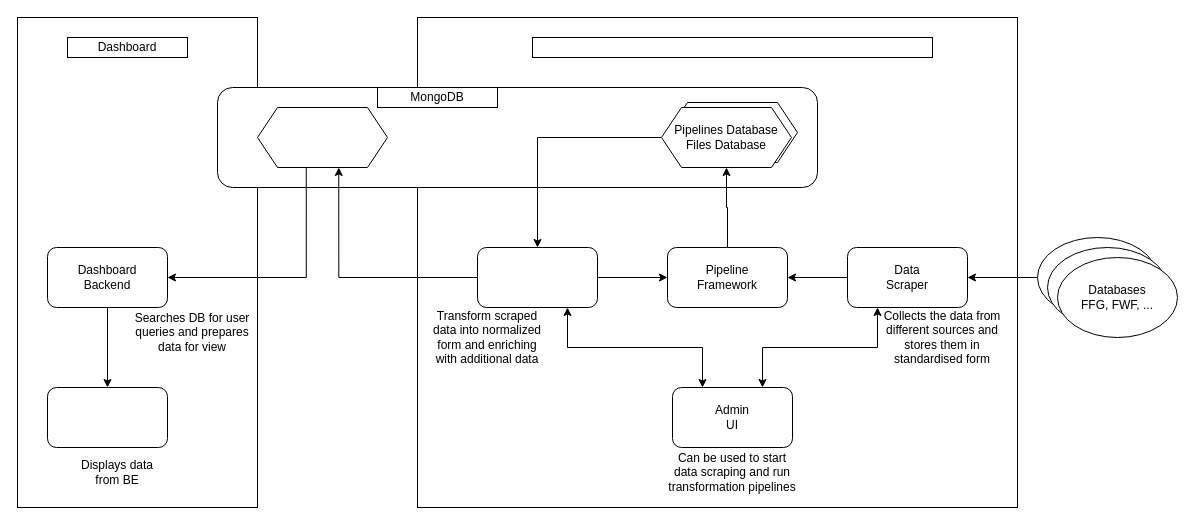
Image size: 1195x525. Some labels were removed from this diagram. The shapes that lost their labels are listed below. From the top down, each one's box as (x1, y1, x2, y2) in pixels, then its label:
(532, 36, 932, 58): Data
(256, 106, 388, 168): Frontend Database
(476, 246, 598, 308): Data Transformer
(46, 386, 168, 448): Dashboard UI
